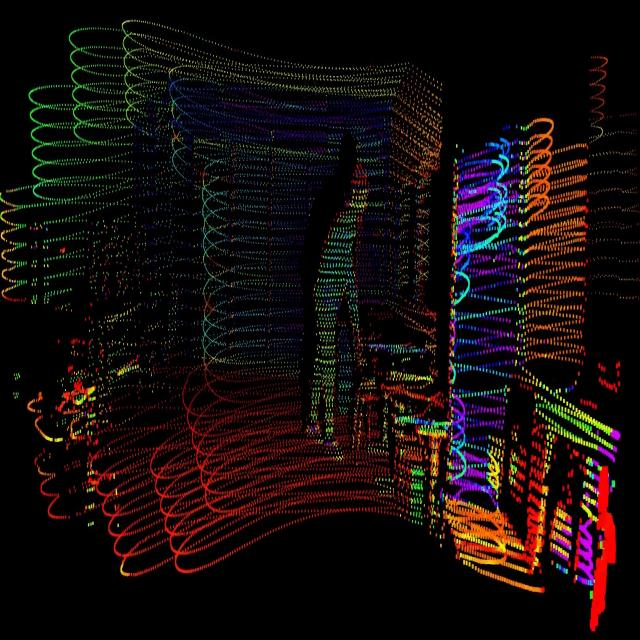human: (301, 148, 375, 478)
